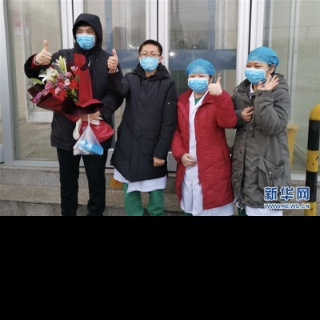with_mask: (244, 61, 268, 86), (187, 72, 209, 94), (139, 49, 159, 73), (74, 27, 95, 48)
